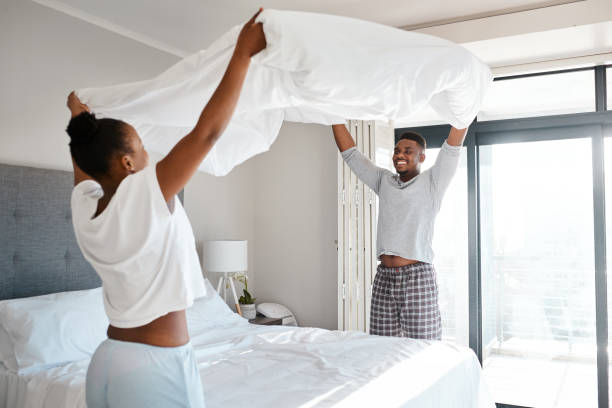without mask: (379, 131, 432, 184), (107, 123, 160, 176)
